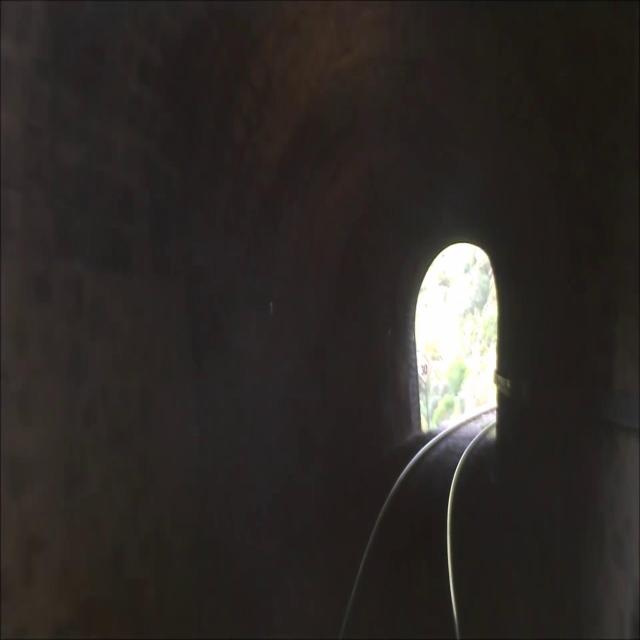rail-track: (343, 410, 495, 639)
